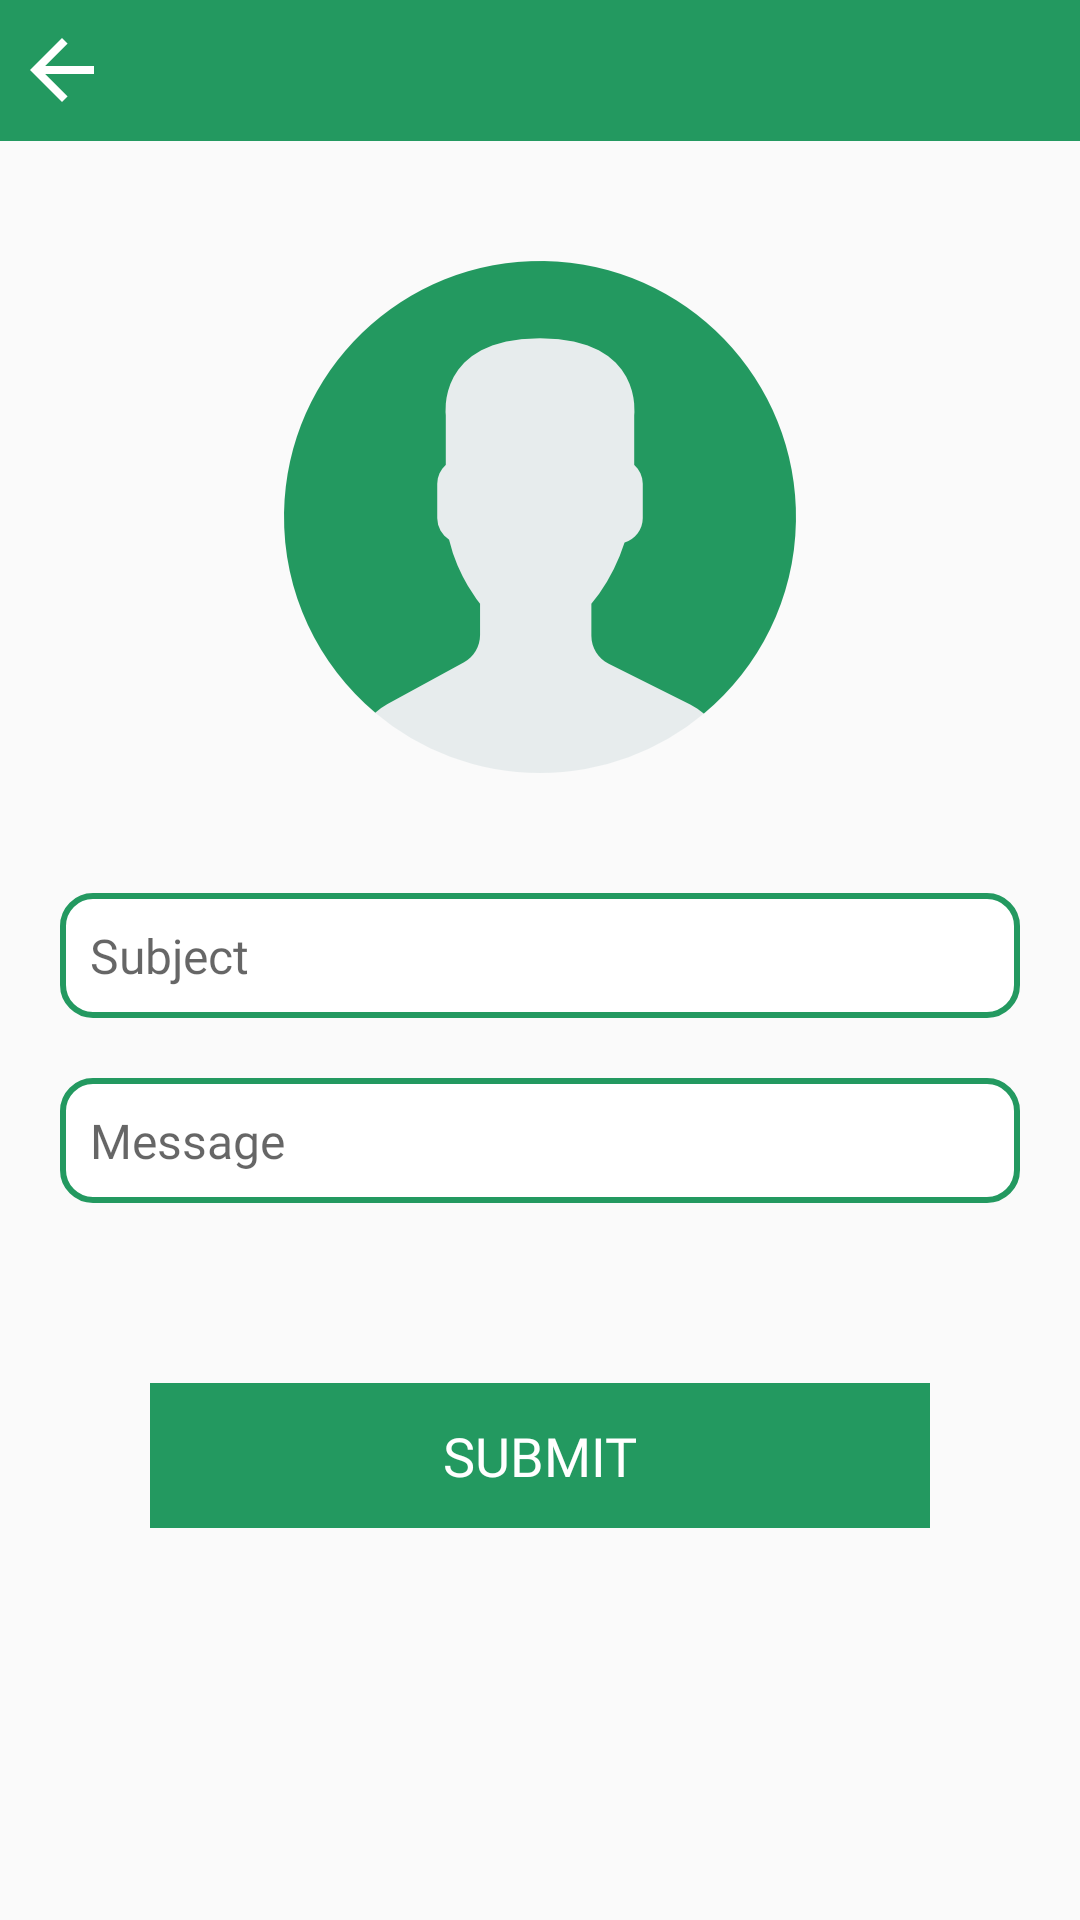

Where to tap for icons on this 1080x1920 app screen, as [x,y]:
back arrow: [62,70]
